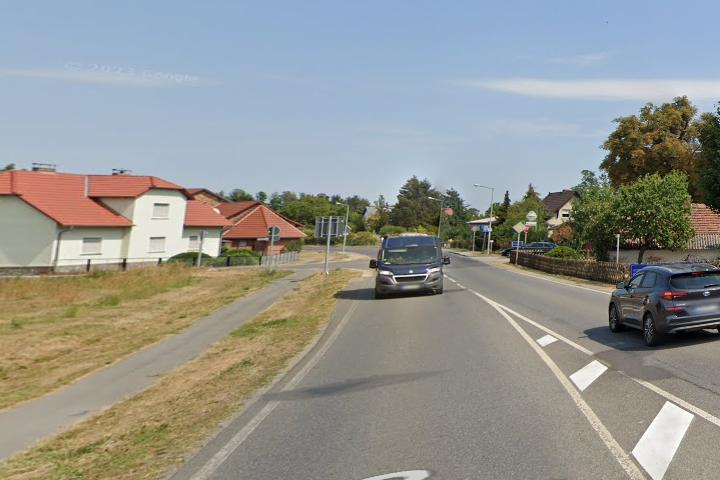traffic_sign: (512, 221, 527, 233)
vehicle: (605, 258, 720, 346), (364, 228, 452, 300)
